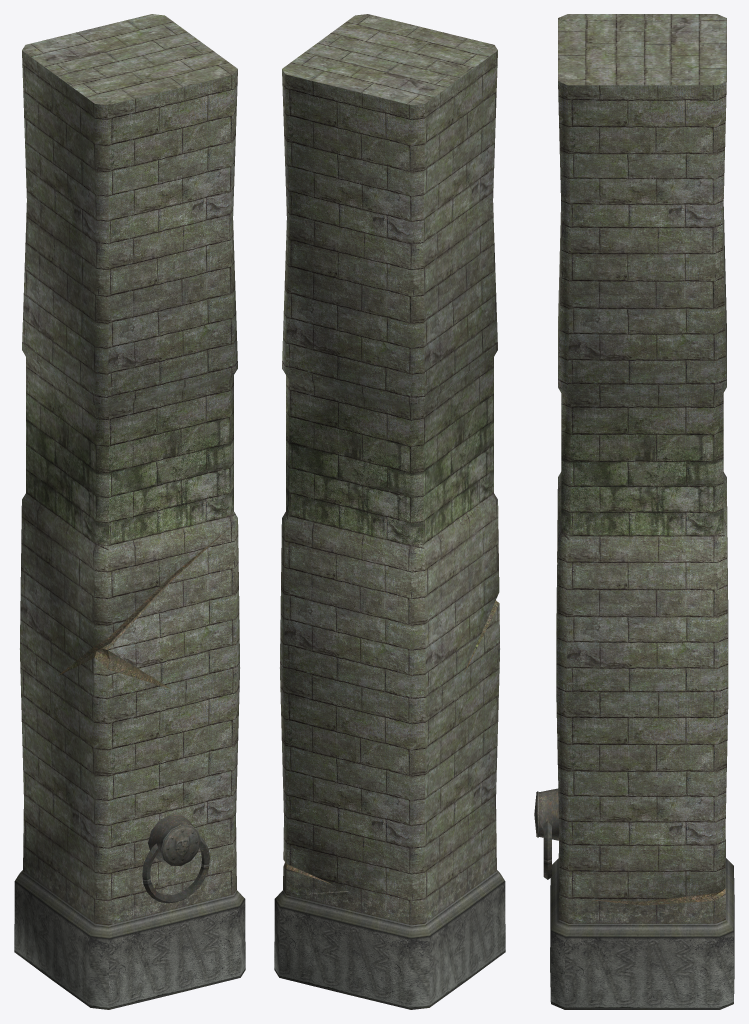
The model's file is PilarCraked.fbx.
The picture shows the model from 3 angles, left to right: view 1: azimuth 30°, elevation 25°; view 2: azimuth 150°, elevation 25°; view 3: azimuth 270°, elevation 25°; orthographic projection. The views are drawn at different scales.
Parts seen in each view (by area): view 1: Mesh Object; view 2: Mesh Object; view 3: Mesh Object.
Boxes of the visible parts, x1,y1,x2,y2 form: Mesh Object: [14, 14, 245, 1009]; Mesh Object: [274, 14, 505, 1009]; Mesh Object: [534, 14, 734, 1009].
Bounding box in the file's own units: 1.09 × 6.05 × 1.19.
